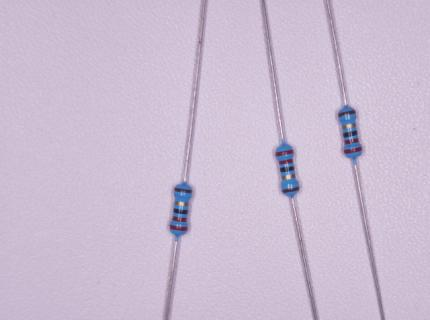Black band: (343, 130, 357, 138), (279, 166, 294, 173), (173, 208, 188, 214)
Brown band: (282, 186, 298, 193), (339, 110, 355, 117), (175, 188, 192, 193)
Gold band: (282, 173, 295, 180), (341, 123, 356, 129), (174, 201, 188, 207)
Red band: (343, 147, 362, 154), (275, 150, 294, 156), (170, 225, 188, 231), (344, 138, 359, 145), (172, 216, 187, 222), (278, 159, 293, 165)
